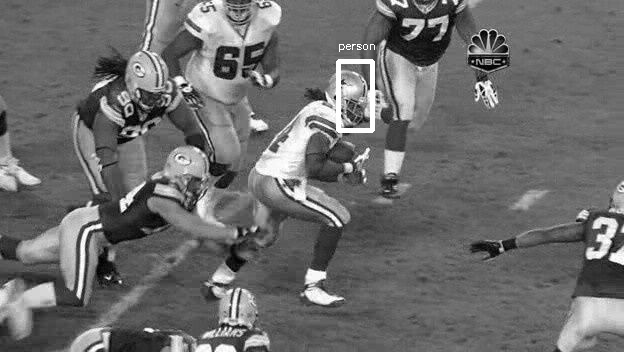person: (329, 75, 364, 120), (328, 75, 363, 120), (330, 75, 365, 120), (329, 74, 364, 119), (329, 76, 364, 121)
target_negative: (109, 24, 277, 344), (368, 28, 534, 214), (522, 20, 555, 150), (461, 203, 480, 321), (569, 190, 590, 224), (465, 224, 467, 281)
